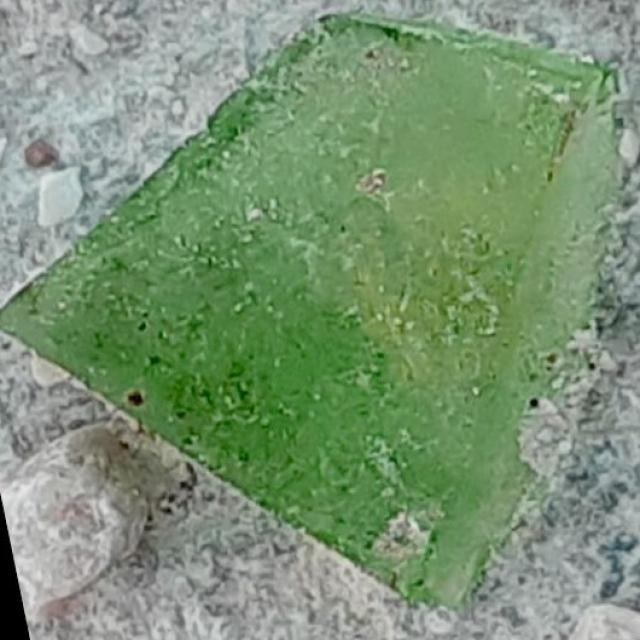Dry: (114, 182, 449, 520), (403, 27, 612, 258), (207, 33, 405, 180), (346, 480, 482, 600), (445, 265, 580, 377), (5, 244, 110, 378), (455, 373, 548, 520), (274, 2, 328, 48)
